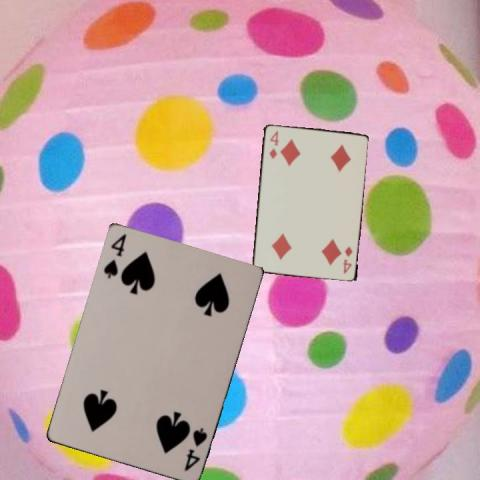4d: (266, 127, 279, 160), (340, 243, 353, 275)
4s: (182, 425, 210, 474), (101, 231, 128, 281)
